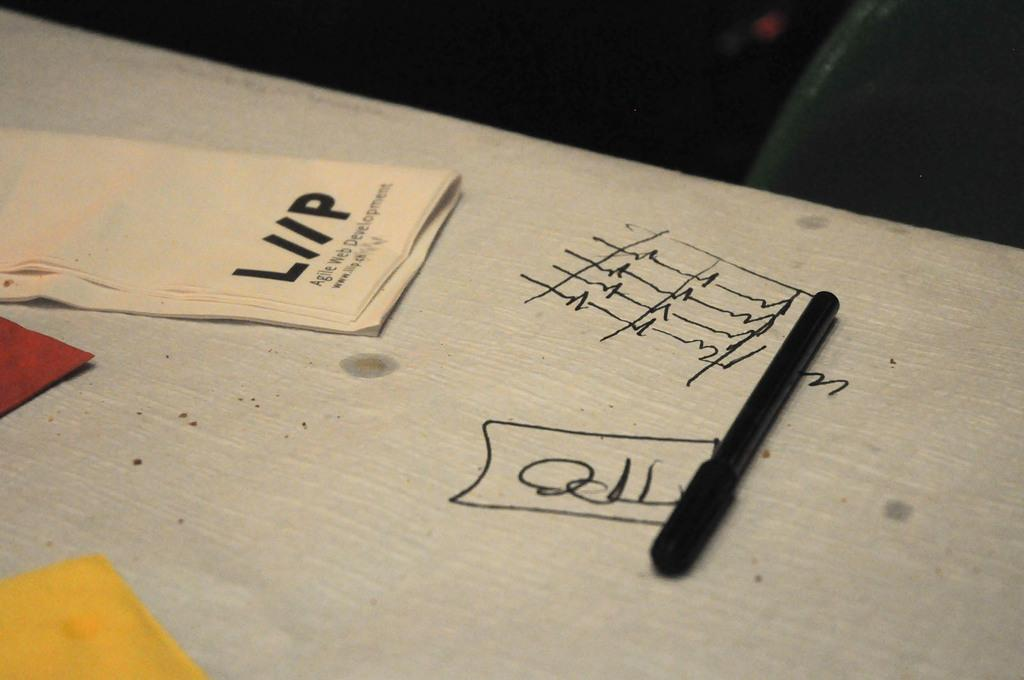pen: (636, 287, 845, 586)
